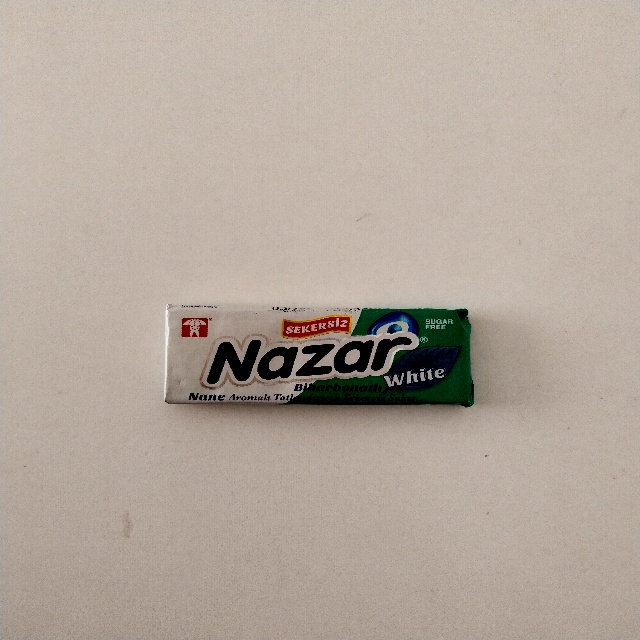nazar_naneli_sakiz: (166, 306, 473, 408)
